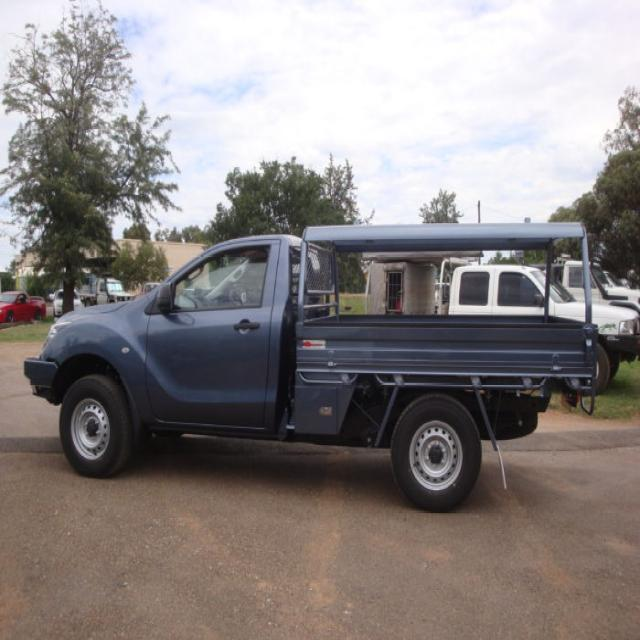light_vehicle: (25, 218, 605, 526)
